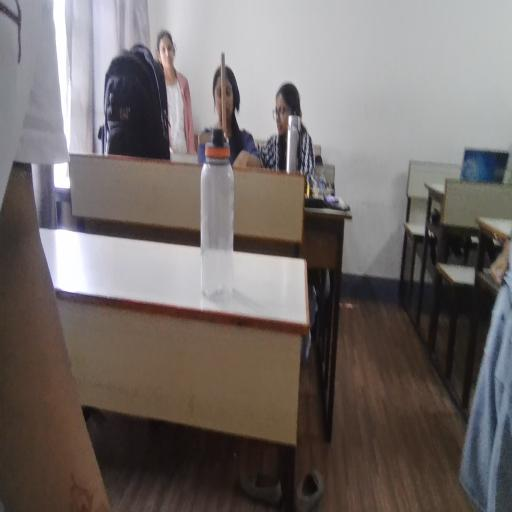Bottle: (195, 130, 251, 305)
